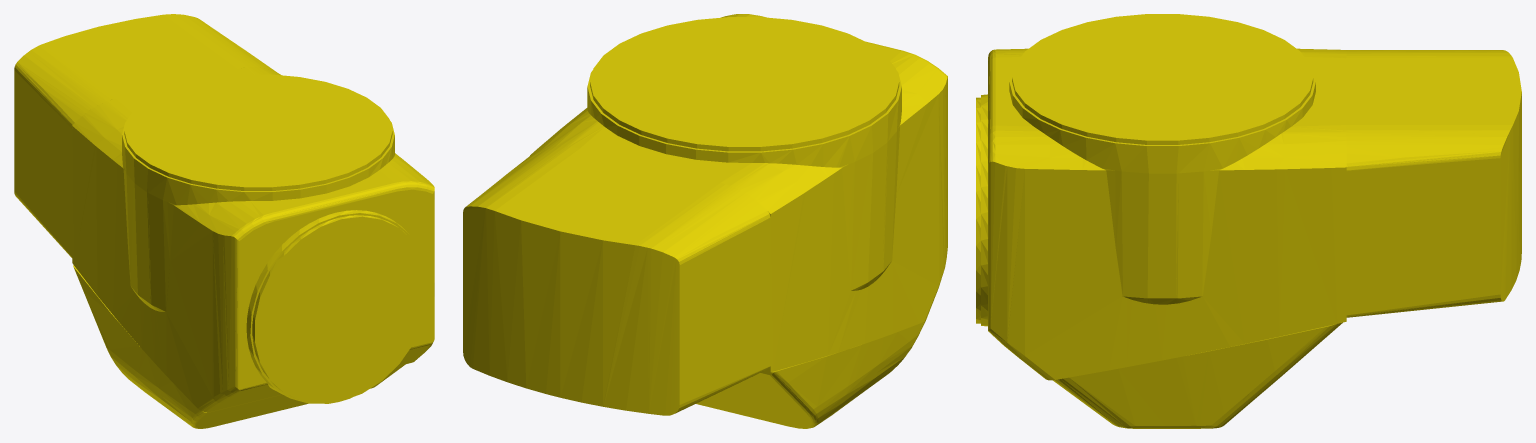
The model's file is elbow_link.dae.
The picture shows the model from 3 angles, left to right: view 1: azimuth 30°, elevation 25°; view 2: azimuth 150°, elevation 25°; view 3: azimuth 270°, elevation 25°; orthographic projection. The views are drawn at different scales.
Visible parts, largest first — view 1: node; view 2: node; view 3: node.
Part boxes in pixels (x1,y1,x2,y2): node: (14,14,434,428); node: (463,14,947,428); node: (976,14,1521,428).
Bounding box in the file's own units: 0.3486 × 0.373 × 0.623.
1 material, 1 textured.
